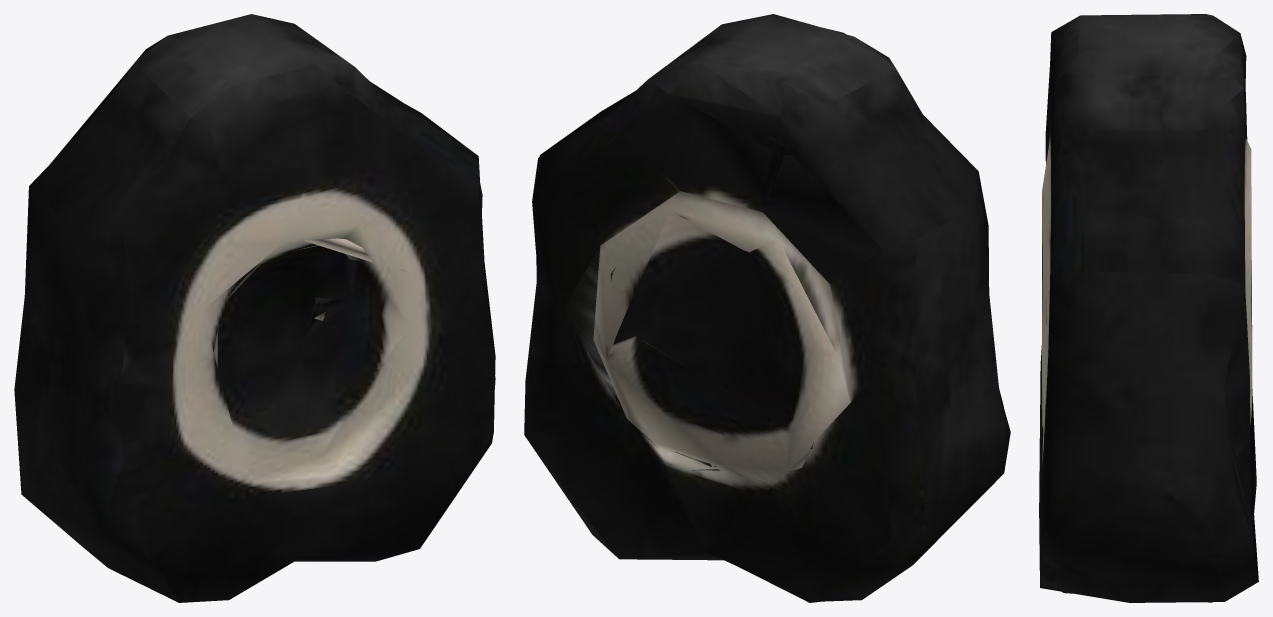
The model's file is lg-eclipse-monolith.glb.
3 renders of one model, left to right at view 1: azimuth 30°, elevation 25°; view 2: azimuth 150°, elevation 25°; view 3: azimuth 270°, elevation 25°, orthographic.
Parts seen in each view (by area): view 1: geometry_0; view 2: geometry_0; view 3: geometry_0.
Boxes of the visible parts, x1=… form: geometry_0: x1=14, y1=14, x2=495, y2=602; geometry_0: x1=524, y1=14, x2=1010, y2=602; geometry_0: x1=1039, y1=14, x2=1258, y2=602.
Size of the model in its own units: 0.8338 by 1 by 0.4009.
1 material, 1 textured.
